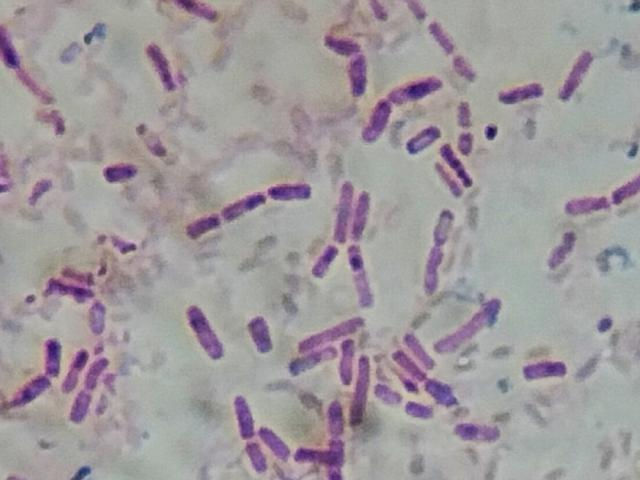E. coli: (443, 295, 509, 351), (181, 295, 232, 362), (559, 49, 598, 104), (545, 223, 590, 267), (500, 75, 558, 109), (434, 145, 471, 195), (145, 33, 178, 89), (265, 177, 317, 210), (518, 359, 578, 387), (296, 315, 365, 339), (229, 182, 266, 225), (351, 352, 374, 421), (336, 177, 359, 242), (348, 247, 374, 304), (361, 93, 391, 141), (426, 246, 454, 297), (315, 236, 345, 281), (13, 375, 51, 410), (563, 187, 604, 217), (67, 342, 91, 393), (82, 296, 113, 335), (389, 76, 430, 105), (275, 347, 326, 370), (448, 426, 505, 446), (39, 276, 88, 299), (405, 330, 433, 369), (86, 353, 113, 393), (260, 419, 289, 456), (618, 169, 640, 217), (346, 56, 371, 96), (432, 205, 458, 243), (191, 206, 218, 241), (105, 159, 138, 187), (323, 33, 365, 55), (248, 313, 272, 351), (229, 399, 255, 434), (394, 0, 439, 19), (42, 332, 62, 374), (429, 17, 457, 47), (402, 122, 435, 147), (391, 349, 419, 378), (76, 389, 96, 426), (331, 439, 350, 477), (339, 339, 358, 377), (453, 55, 484, 78), (63, 263, 98, 283), (243, 443, 266, 473), (433, 377, 453, 410), (295, 450, 334, 466), (402, 400, 429, 421), (459, 96, 476, 127), (328, 399, 343, 434), (368, 2, 390, 21), (461, 133, 476, 154), (381, 386, 397, 405)
